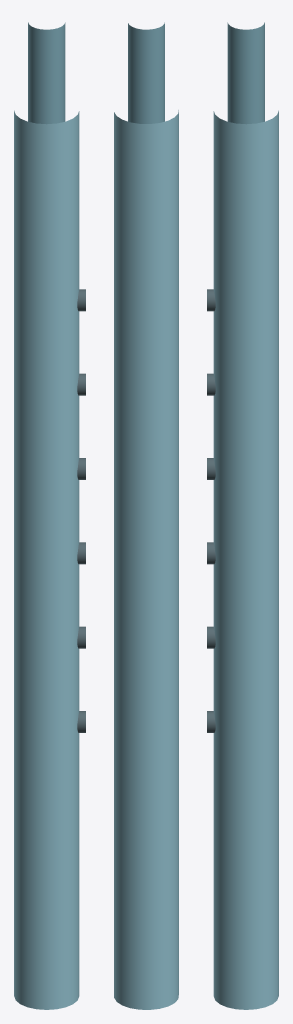
File: flute.glb
The picture shows the model from 3 angles, left to right: view 1: azimuth 90°, elevation 25°; view 2: azimuth 150°, elevation 25°; view 3: azimuth 270°, elevation 25°; orthographic projection.
Parts seen in each view (by area): view 1: flute; view 2: flute; view 3: flute.
Boxes of the visible parts, x1,y1,x2,y2 form: flute: [14, 22, 85, 1009]; flute: [114, 22, 178, 1009]; flute: [207, 22, 278, 1009].
Size of the model in its own units: 0.07 by 1.15 by 0.077.
